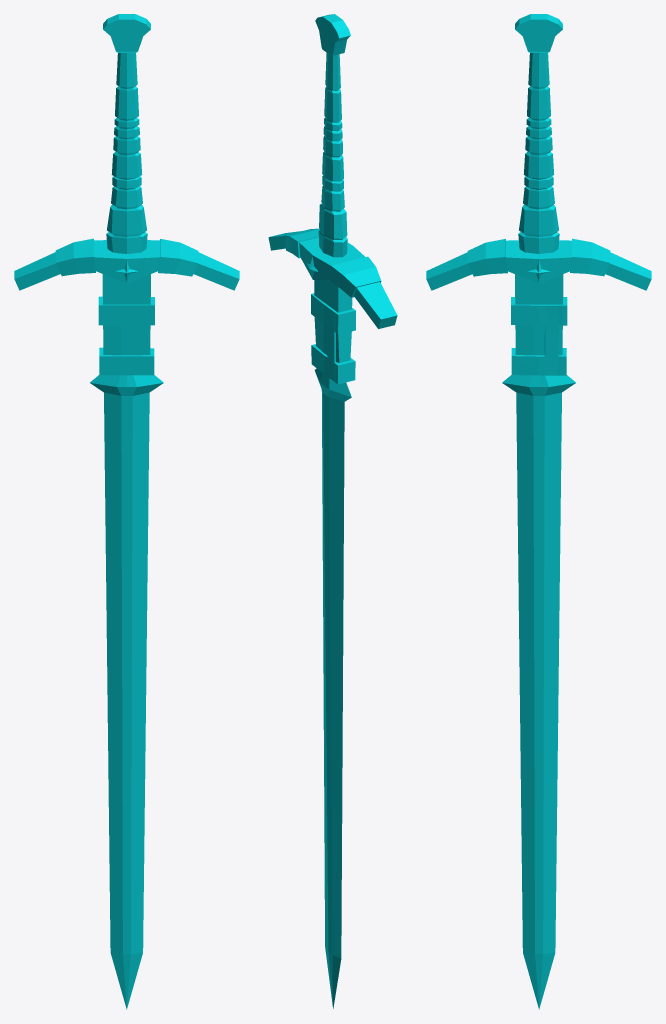
The model's file is Sword.fbx.
3 renders of one model, left to right at view 1: azimuth 90°, elevation 25°; view 2: azimuth 210°, elevation 25°; view 3: azimuth 270°, elevation 25°, orthographic.
Parts seen in each view (by area): view 1: Metal_low, lether_low, SwordArmor_low, SwordLether_low; view 2: Metal_low, lether_low, SwordArmor_low, SwordLether_low; view 3: Metal_low, lether_low, SwordArmor_low, SwordLether_low.
Part boxes in pixels (box(x1,y1,x2,y2)): Metal_low: box(90, 14, 163, 1009); lether_low: box(98, 53, 154, 375); SwordArmor_low: box(14, 240, 239, 290); SwordLether_low: box(55, 238, 198, 276); Metal_low: box(314, 14, 352, 1008); lether_low: box(311, 53, 355, 384); SwordArmor_low: box(268, 231, 397, 328); SwordLether_low: box(284, 228, 381, 297); Metal_low: box(502, 14, 575, 1009); lether_low: box(511, 53, 567, 375); SwordArmor_low: box(426, 240, 651, 290); SwordLether_low: box(467, 238, 610, 276).
Bounding box in the file's own units: 39.54 × 793 × 163.
